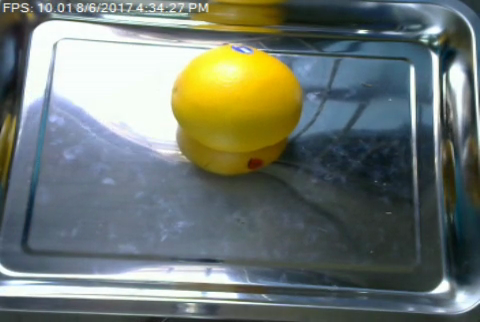Orange: (169, 46, 304, 151)
